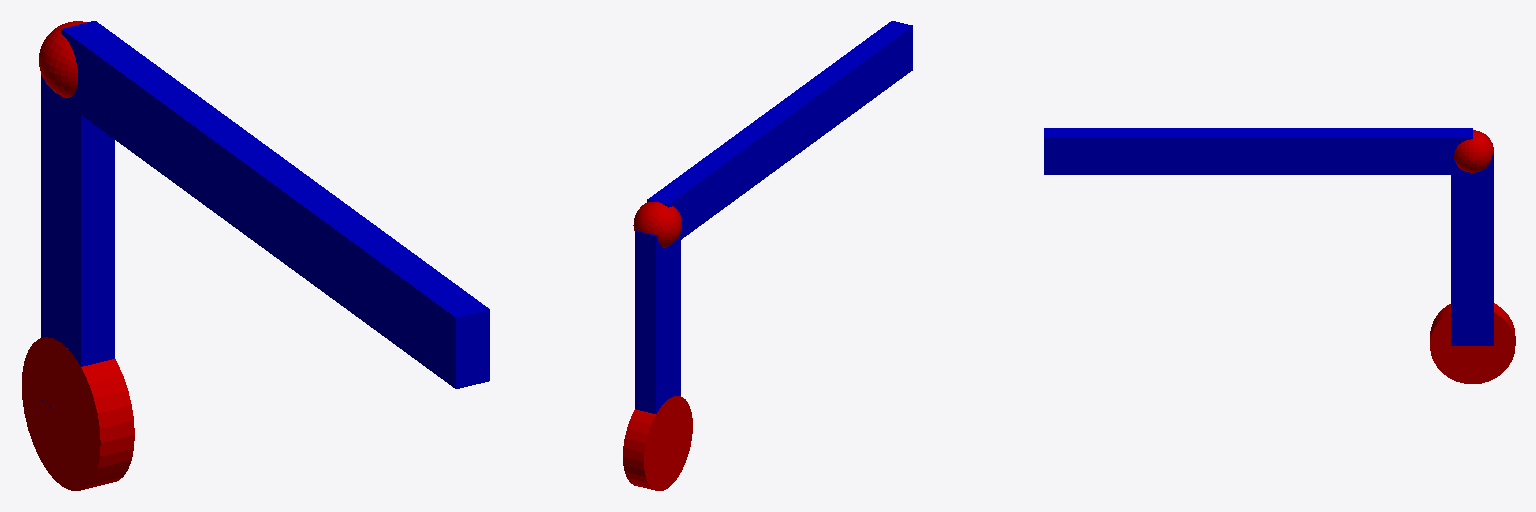
robot.urdf — TwoLinkStruct9826393374:
<?xml version="1.0"?>
<robot  name="TwoLinkStruct9826393374" >
 <material  name="blue" >
  <color  rgba="0 0 0.8 1.0" />
 </material>
 <material  name="red" >
  <color  rgba="0.8 0 0 1.0" />
 </material>
 <link  name="base_link" >
  <visual >
   <origin  rpy="0 1.5707 0"  xyz="0 0 0" />
   <material  name="red" />
   <geometry >
    <cylinder  length="0.05"  radius="0.1" />
   </geometry>
  </visual>
 </link>
 <joint  type="revolute"  name="joint1" >
  <parent  link="base_link" />
  <child  link="link1" />
  <origin  xyz="0 0 0"  rpy="0 0 0" />
  <axis  xyz="1 0 0" />
 </joint>
 <link  name="link1" >
  <inertial >
   <origin  rpy="0 0 0"  xyz="0 0 0.24423875328654288" />
   <mass  value="1.346452146408759" />
   <inertia  ixy="0.0"  iyy="0.0005610217276703163"  izz="0.02705362054371631"  ixz="0.0"  ixx="0.02705362054371631"  iyz="0.0" />
  </inertial>
  <visual >
   <origin  rpy="0 0 0"  xyz="0 0 0.24423875328654288" />
   <material  name="blue" />
   <geometry >
    <box  size="0.05 0.1 0.48847750657308575" />
   </geometry>
  </visual>
 </link>
 <joint  type="fixed"  name="joint-joint-1" >
  <parent  link="link1" />
  <child  link="joint-link-1" />
  <origin  xyz="0 0 0.48847750657308575"  rpy="1.5707 0 0" />
  <axis  xyz="1 0 0" />
 </joint>
 <link  name="joint-link-1" >
  <inertial >
   <origin  rpy="0 0 0"  xyz="0 0 0" />
   <mass  value="5.0" />
   <inertia  ixy="0"  iyy="0"  izz="0"  ixz="0"  ixx="0"  iyz="0" />
  </inertial>
  <visual >
   <origin  rpy="0 0 0"  xyz="0 0 0" />
   <material  name="red" />
   <geometry >
    <sphere  radius="0.05" />
   </geometry>
  </visual>
 </link>
 <joint  type="revolute"  name="joint2" >
  <parent  link="link1" />
  <child  link="link2" />
  <origin  xyz="0 0 0.48847750657308575"  rpy="1.5707 0 0" />
  <axis  xyz="1 0 0" />
 </joint>
 <link  name="link2" >
  <inertial >
   <origin  rpy="0 0 0"  xyz="0 0 0.5" />
   <mass  value="3.9980690479278564" />
   <inertia  ixy="0.0"  iyy="0.0005610217276703163"  izz="0.1124848563978984"  ixz="0.0"  ixx="0.1124848563978984"  iyz="0.0" />
  </inertial>
  <visual >
   <origin  rpy="0 0 0"  xyz="0 0 0.5" />
   <material  name="blue" />
   <geometry >
    <box  size="0.05 0.1 1.0" />
   </geometry>
  </visual>
 </link>
 <joint  type="fixed"  name="eef_joint" >
  <parent  link="link2" />
  <child  link="eef" />
  <origin  xyz="0 0 1.0"  rpy="0 0 0" />
 </joint>
 <link  name="eef" >
  <inertial >
   <origin  rpy="0 0 0"  xyz="0 0 0" />
   <mass  value="1" />
   <inertia  ixy="0"  iyy="0"  izz="0"  ixz="0"  ixx="0"  iyz="0" />
  </inertial>
 </link>
 <transmission  name="motor1" >
  <type  xmltext="SimpleTransmission" >
   SimpleTransmission
  </type>
  <actuator  name="motor1" >
   <mechanicalreduction  xmltext="1" >
    1
   </mechanicalreduction>
  </actuator>
  <joint  name="joint1" />
 </transmission>
 <transmission  name="motor2" >
  <type  xmltext="SimpleTransmission" >
   SimpleTransmission
  </type>
  <actuator  name="motor2" >
   <mechanicalreduction  xmltext="1" >
    1
   </mechanicalreduction>
  </actuator>
  <joint  name="joint2" />
 </transmission>
</robot>

<!-- {'carti': array([-0.1 ,  0.14,  0.85]), 'cartd': array([-0.1 ,  0.32,  1.29]), 'tau_mu': 1.0, 'b0': 1.0, 'Km': 4.174430155794535, 'k_velocity': 100.0, 'tau_max_m': 4.206464443233892, 'omega_max_m': 9000.0, 'gear_ratio': 25.0, 'Kp': 0.0, 'Kd': 0.0, 'm_m': 5.0, 'l1': 0.48847750657308575, 'l2': 1.0, 'k1': 30854.584106143302, 'k2': 292105193.885289, 'k3': 379000000.0}-->

--- What the picture shows (computed from the rendered views, not written in the file) ---
The picture shows the robot from 3 angles, left to right: view 1: azimuth 30°, elevation 25°; view 2: azimuth 150°, elevation 25°; view 3: azimuth 270°, elevation 25°; orthographic projection.
Robot: TwoLinkStruct9826393374 — 5 links, 4 joints (2 revolute, 2 fixed); root link base_link; default pose: all joints at 0.
Visible links, largest first — view 1: link2, link1, base_link, joint-link-1; view 2: link2, link1, base_link, joint-link-1; view 3: link2, link1, base_link, joint-link-1.
Boxes of the visible links, bbox=[...] form: link2: bbox=[61, 21, 489, 388]; link1: bbox=[41, 75, 114, 406]; base_link: bbox=[22, 337, 134, 490]; joint-link-1: bbox=[39, 21, 86, 97]; link2: bbox=[647, 21, 912, 248]; link1: bbox=[635, 230, 680, 413]; base_link: bbox=[623, 396, 692, 490]; joint-link-1: bbox=[633, 202, 681, 247]; link2: bbox=[1044, 128, 1472, 174]; link1: bbox=[1451, 154, 1493, 345]; base_link: bbox=[1430, 303, 1515, 383]; joint-link-1: bbox=[1454, 130, 1493, 172].
Bounding box of the posed robot: 0.1 × 1.1 × 0.6386 m (x, y, z).
Geometry: primitives only (box / cylinder / sphere), no mesh files.
